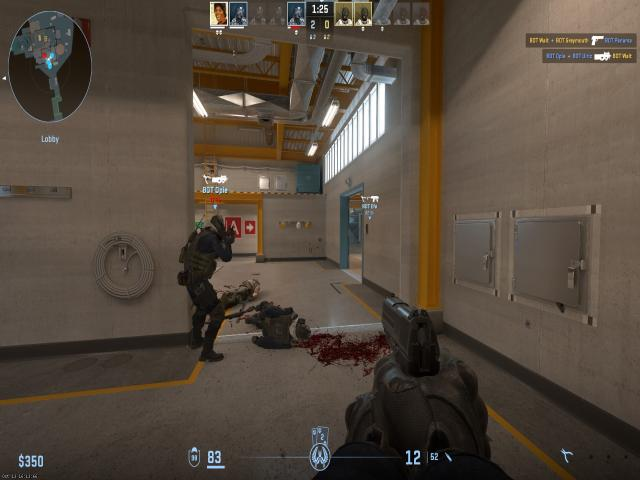CT: (190, 212, 226, 349)
CT-Head: (207, 216, 224, 234)
Dead: (250, 301, 318, 348), (224, 273, 262, 310)
